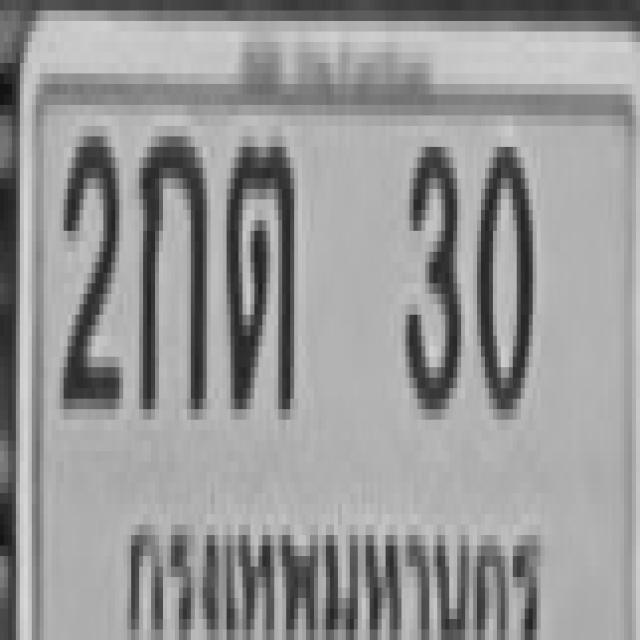0: (473, 136, 529, 410)
10GorGai: (135, 126, 203, 409)
2: (58, 126, 117, 399)
3: (402, 136, 457, 410)
30TorTao: (223, 136, 290, 410)
Bangkok: (119, 493, 549, 640)
